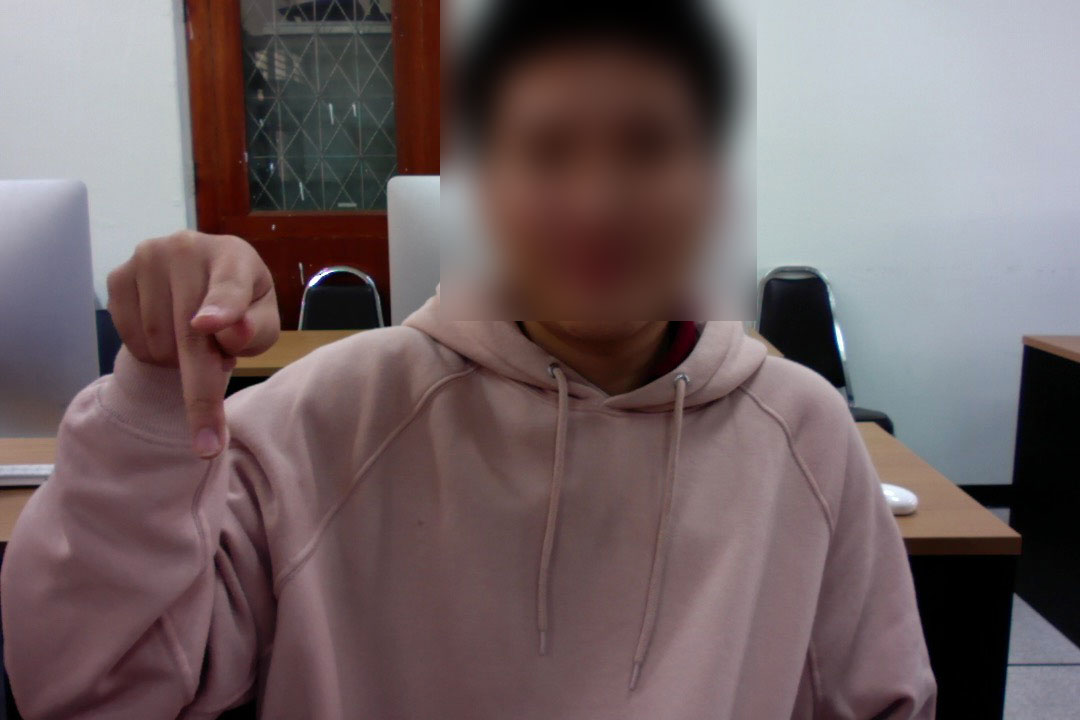por: (104, 221, 286, 467)
